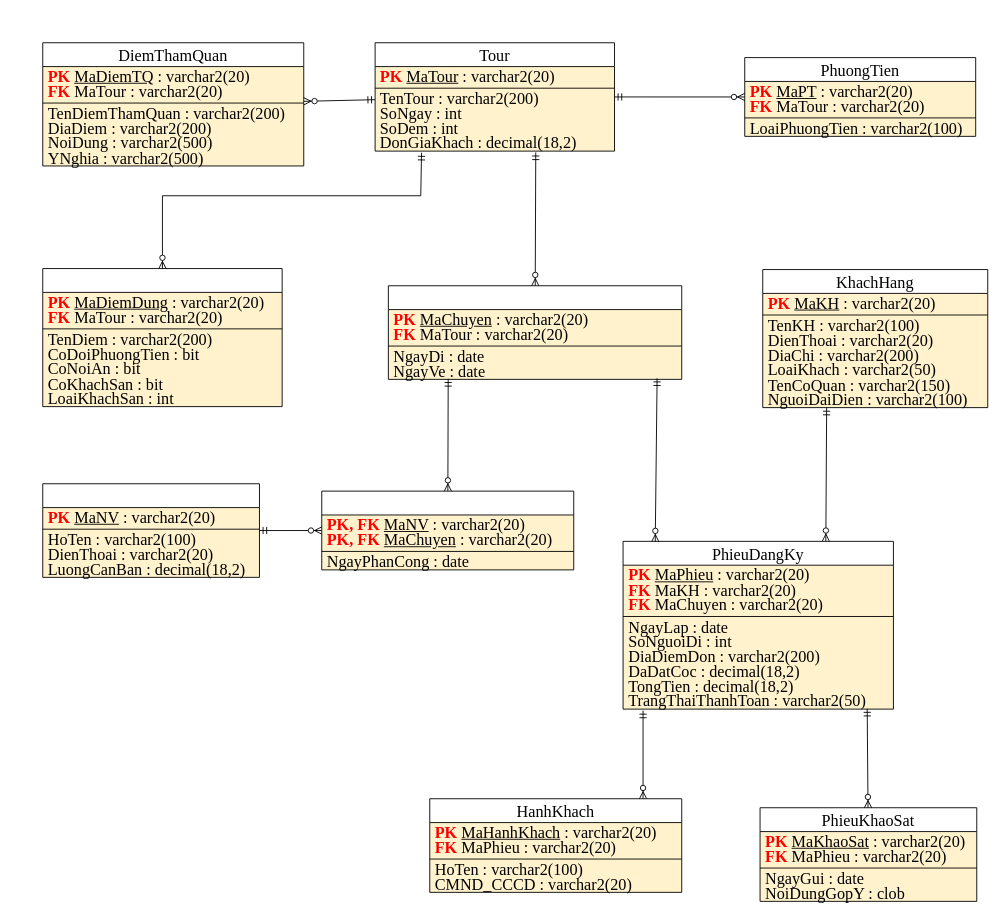
This 1004x919 diagram has some shape labels left out. Here are the shapes that lost their labels. From the top down, the box of each, then its label:
(42, 268, 282, 407): DiemDungChan
(387, 285, 682, 379): ChuyenDi
(42, 483, 259, 577): NhanVien
(321, 490, 574, 570): PhanCongHDV
